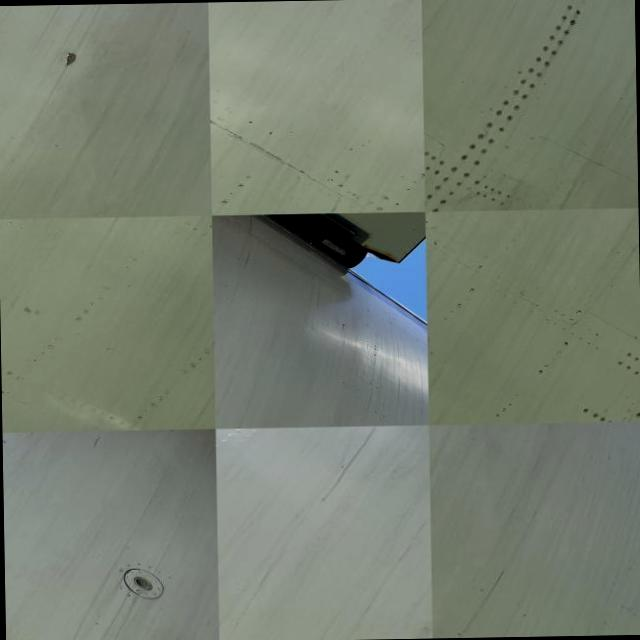crack: (52, 50, 80, 70), (484, 569, 506, 594)
